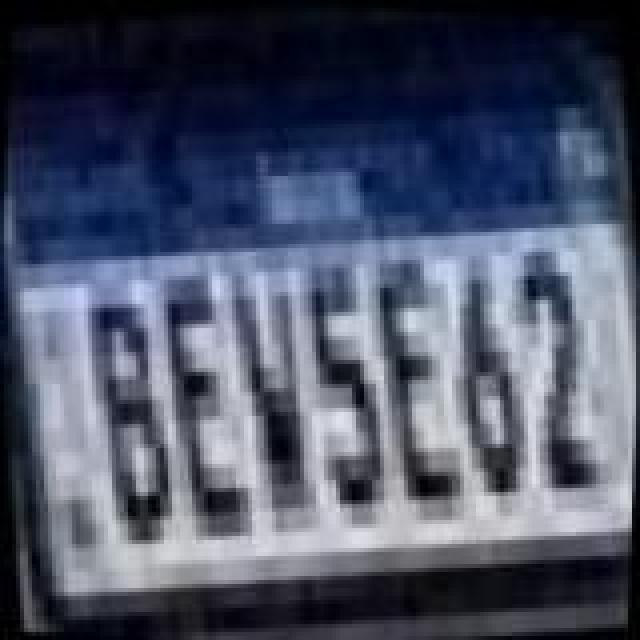2: (500, 232, 620, 500)
5: (288, 248, 400, 528)
6: (436, 242, 540, 510)
B: (74, 290, 186, 550)
E: (360, 238, 480, 514), (144, 264, 260, 548)
W: (214, 256, 322, 532)
